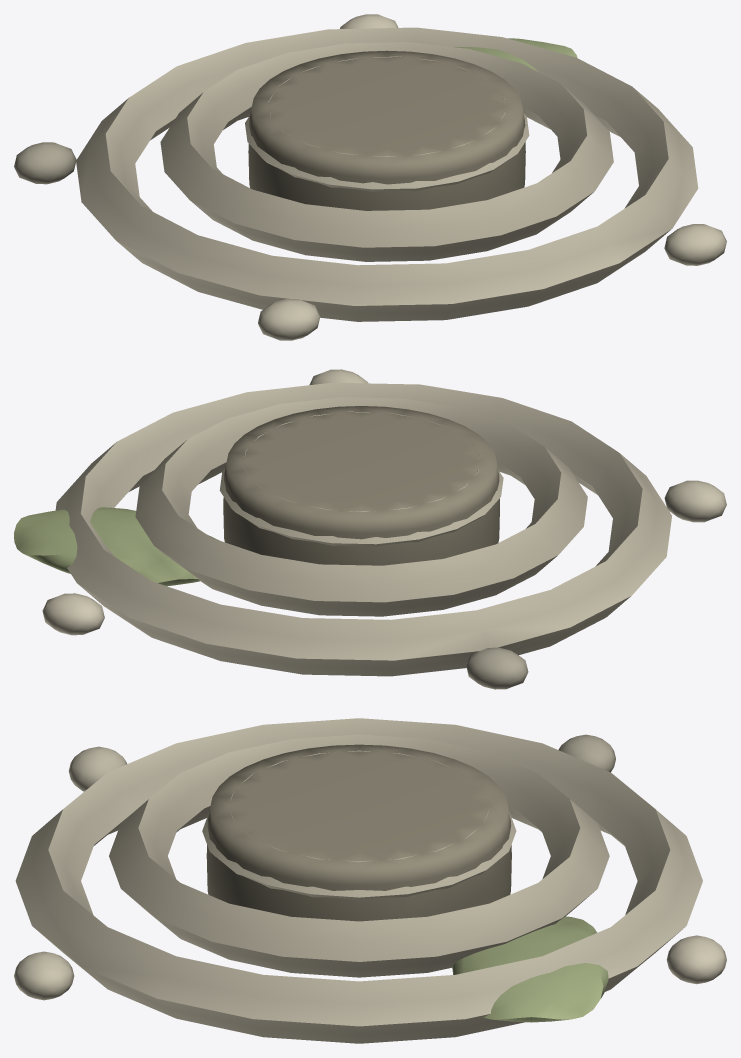
File: mist_rings_a.glb
The picture shows the model from 3 angles, top to bottom: view 1: azimuth 30°, elevation 25°; view 2: azimuth 150°, elevation 25°; view 3: azimuth 270°, elevation 25°; orthographic projection. The views are drawn at different scales.
Visible parts, largest first — view 1: Surface; view 2: Surface; view 3: Surface.
Part boxes in pixels (x1=…): Surface: x1=14, y1=14, x2=726, y2=340; Surface: x1=14, y1=369, x2=726, y2=689; Surface: x1=14, y1=718, x2=726, y2=1043.
Size of the model in its own units: 4 by 0.69 by 4.14.
